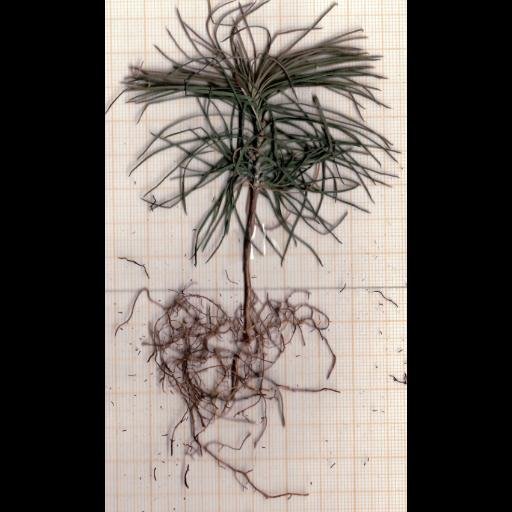flowerCedr: (119, 1, 396, 263)
rootCedr: (150, 291, 336, 498)
stemCedr: (243, 189, 259, 315)
